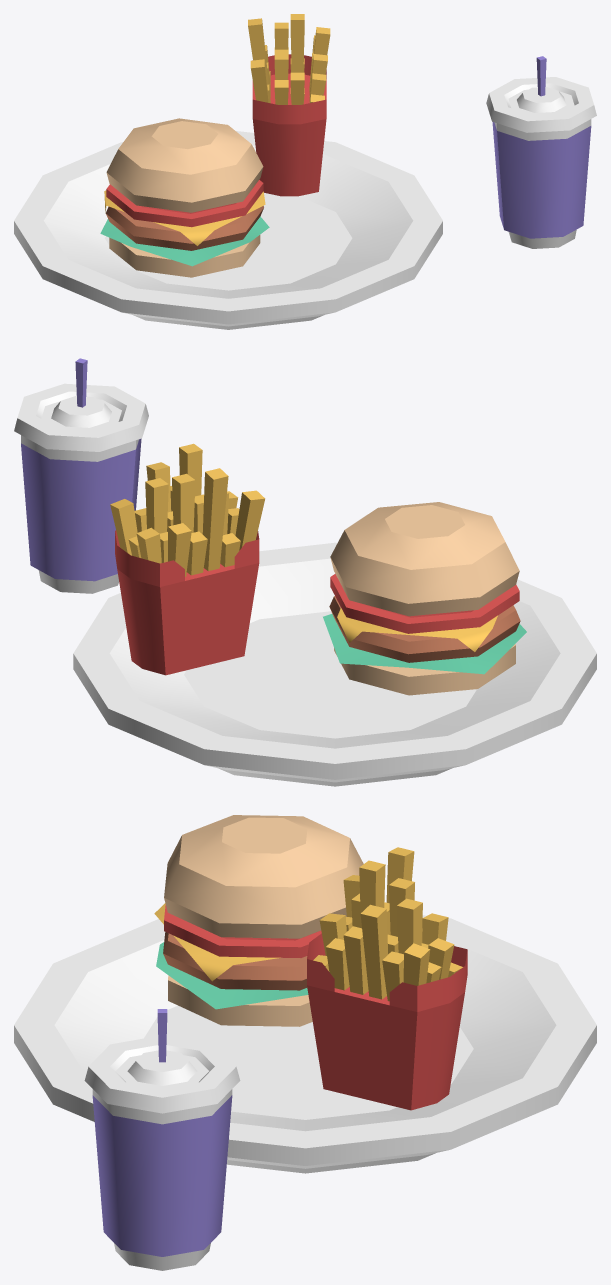
The model's file is combo-burger.glb.
The picture shows the model from 3 angles, top to bottom: view 1: azimuth 30°, elevation 25°; view 2: azimuth 150°, elevation 25°; view 3: azimuth 270°, elevation 25°; orthographic projection. The views are drawn at different scales.
Parts seen in each view (by area): view 1: plate, soda, fries (×2), bunTop, patty, bunBottom, tomato, salad, cheese; view 2: plate, fries (×2), soda, bunTop, patty, tomato, bunBottom, salad, cheese; view 3: plate, fries (×2), soda, bunTop, patty, bunBottom, tomato, salad, cheese.
Part boxes in pixels (x1,y1,x2,y2): plate: (14, 131, 442, 329); soda: (486, 56, 596, 248); fries (×2): (248, 14, 330, 196); bunTop: (106, 118, 263, 212); patty: (105, 206, 263, 250); bunBottom: (109, 235, 260, 277); tomato: (106, 180, 263, 227); salad: (100, 216, 269, 266); cheese: (104, 190, 265, 245); plate: (73, 542, 596, 786); fries (×2): (110, 443, 265, 675); soda: (14, 358, 148, 593); bunTop: (330, 502, 519, 616); patty: (329, 596, 520, 662); tomato: (330, 574, 519, 633); bunBottom: (334, 644, 515, 695); salad: (323, 614, 526, 674); cheese: (337, 608, 497, 651); plate: (14, 915, 596, 1173); fries (×2): (307, 847, 467, 1110); soda: (84, 1009, 240, 1270); bunTop: (164, 815, 363, 938); patty: (163, 932, 307, 990); bunBottom: (168, 975, 312, 1026); tomato: (164, 905, 321, 957); salad: (156, 942, 308, 1009); cheese: (154, 903, 280, 981).
Bounding box in the file's own units: 0.3808 × 0.1483 × 0.2854.
